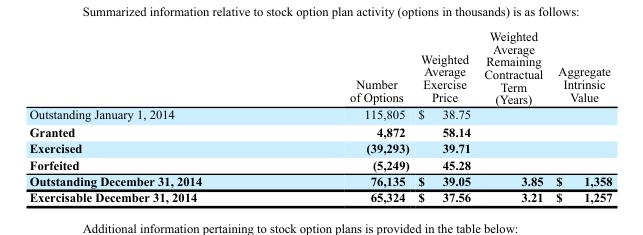table: (28, 28, 611, 204)
table column: (28, 28, 275, 204), (275, 28, 413, 204), (476, 28, 548, 204), (413, 28, 476, 204), (548, 28, 611, 204)
table column header: (28, 28, 611, 106)
table row: (28, 28, 611, 106), (28, 122, 611, 139), (28, 139, 611, 156), (28, 172, 611, 189), (28, 106, 611, 122), (28, 156, 611, 172), (28, 189, 611, 204)
